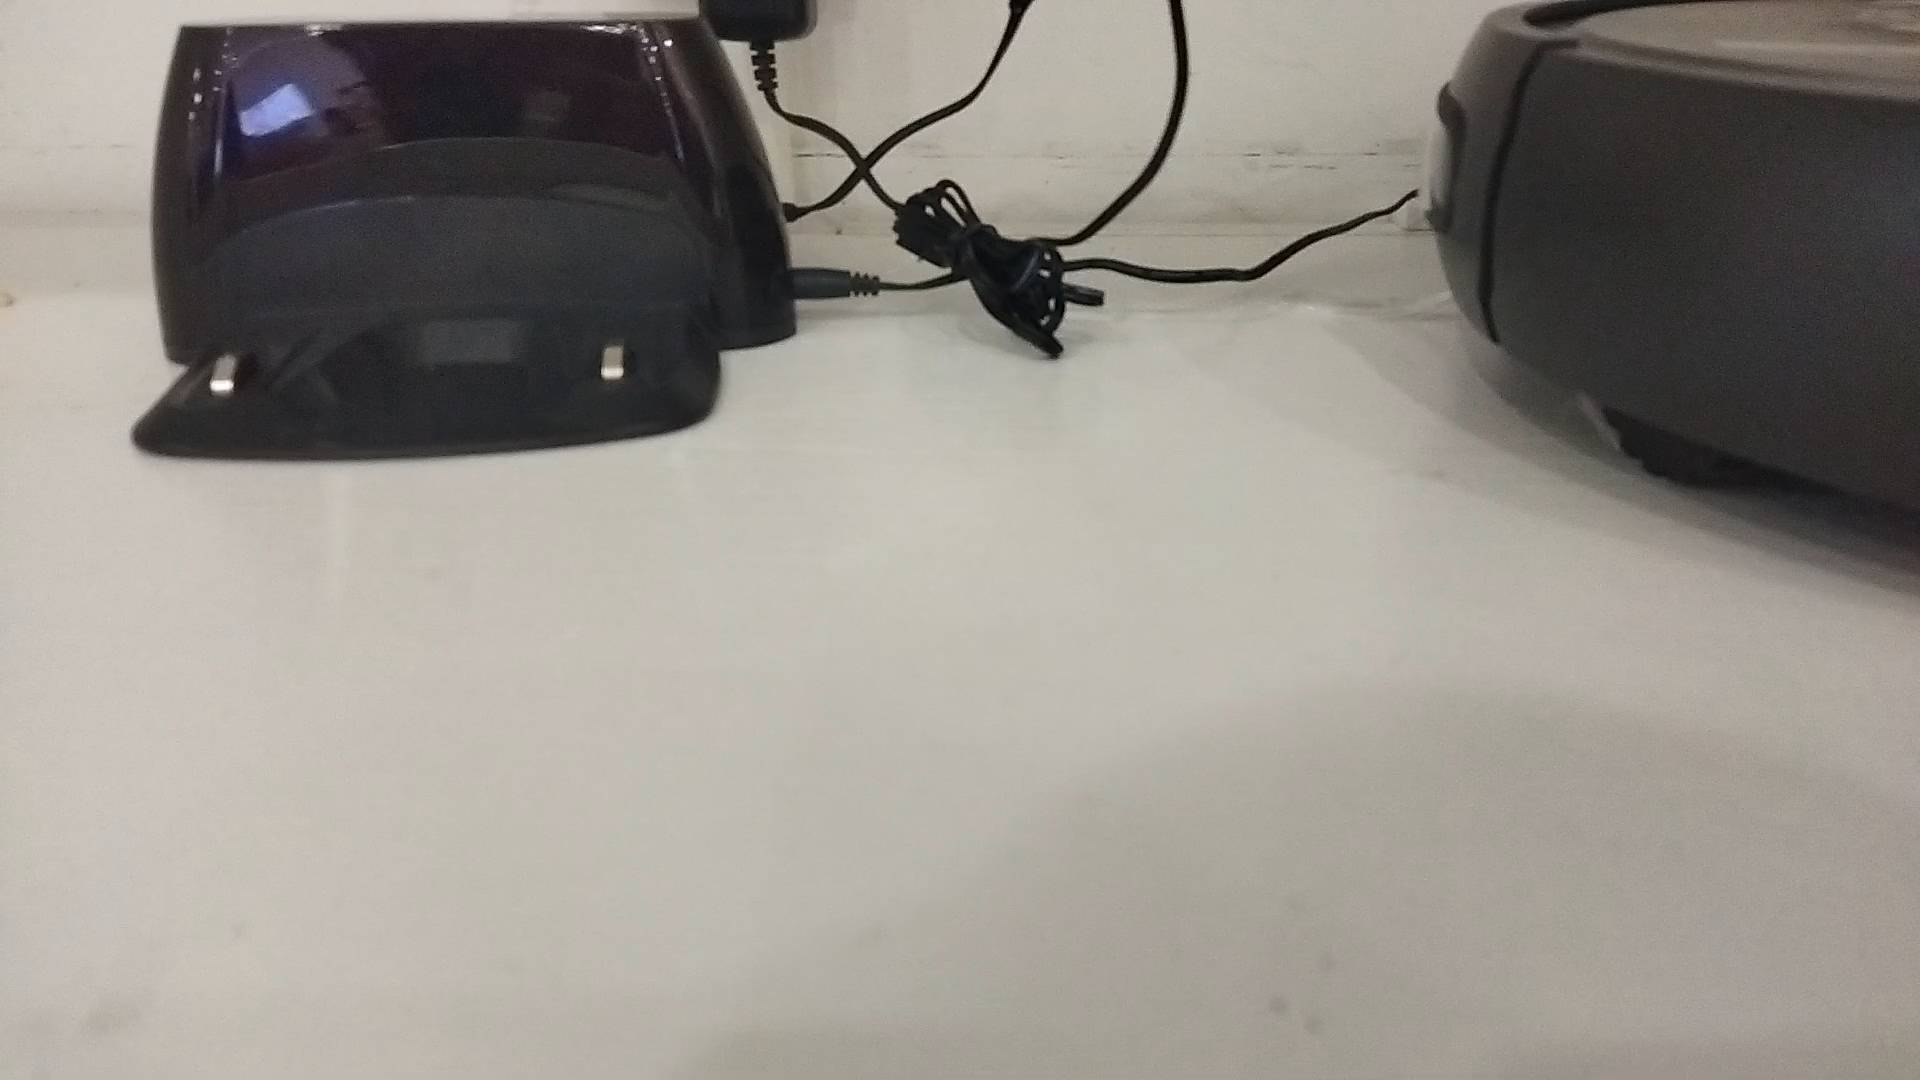recharge seat: (129, 15, 796, 462)
